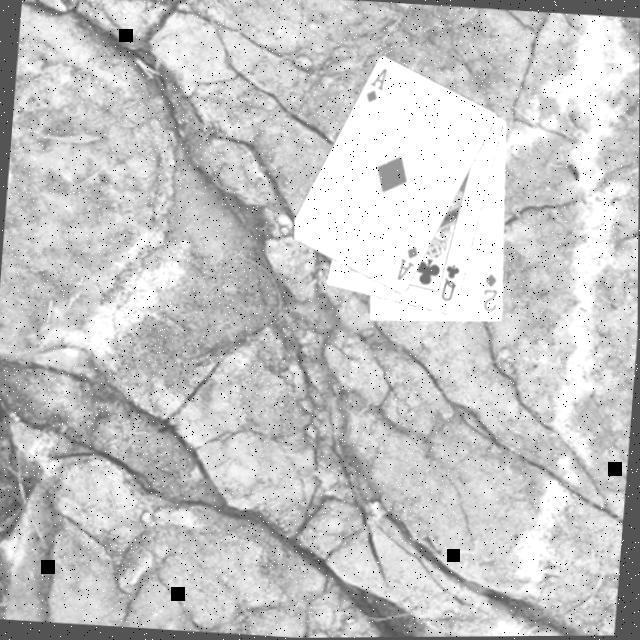2D: (482, 268, 504, 314)
AD: (394, 240, 424, 284), (364, 62, 392, 106)
QC: (439, 258, 466, 304)
